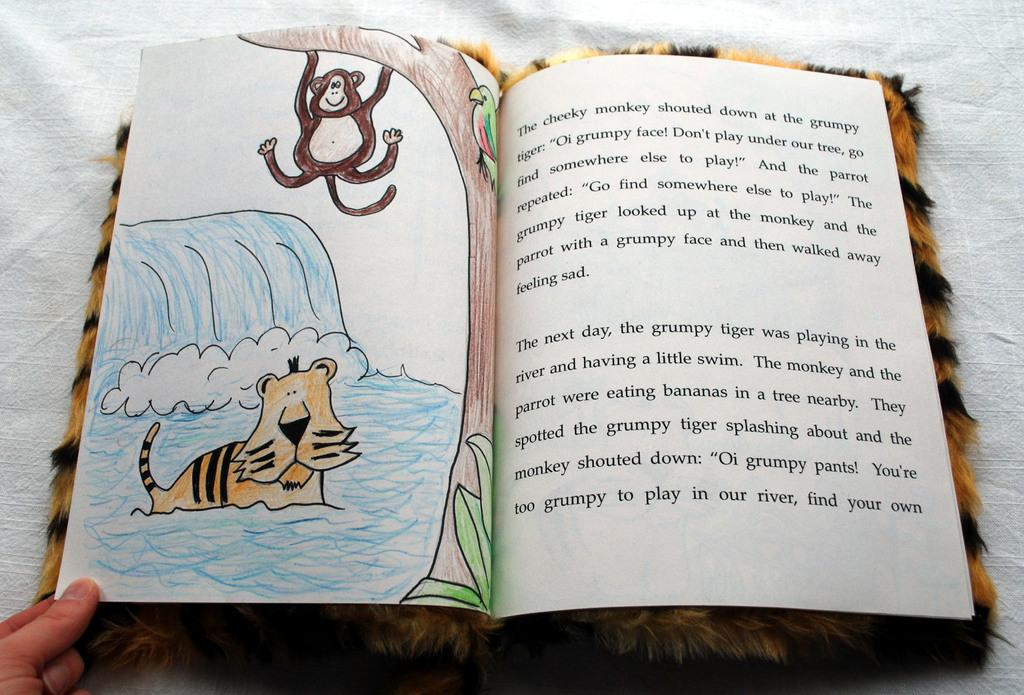Book: (53, 25, 975, 620)
